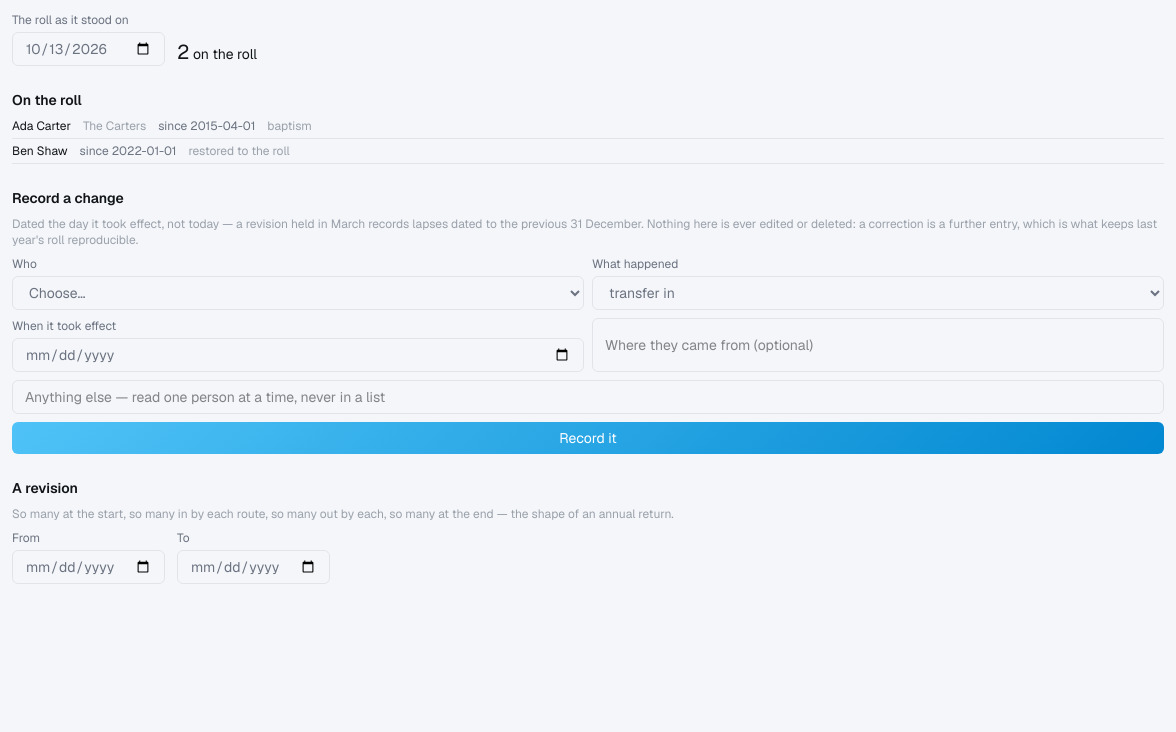
Test: recording a change › asks where they went for a leaving, and where they came from for a joining
The width and height of the screenshot is (1176, 732).
Expected: the field with placeholder "Where they came from (optional)" is shown, x1=592 y1=318 x2=1164 y2=372
Select "transfer out" in the dropdown labelled "What happened". click: (878, 293)
box: x1=592 y1=276 x2=1164 y2=310
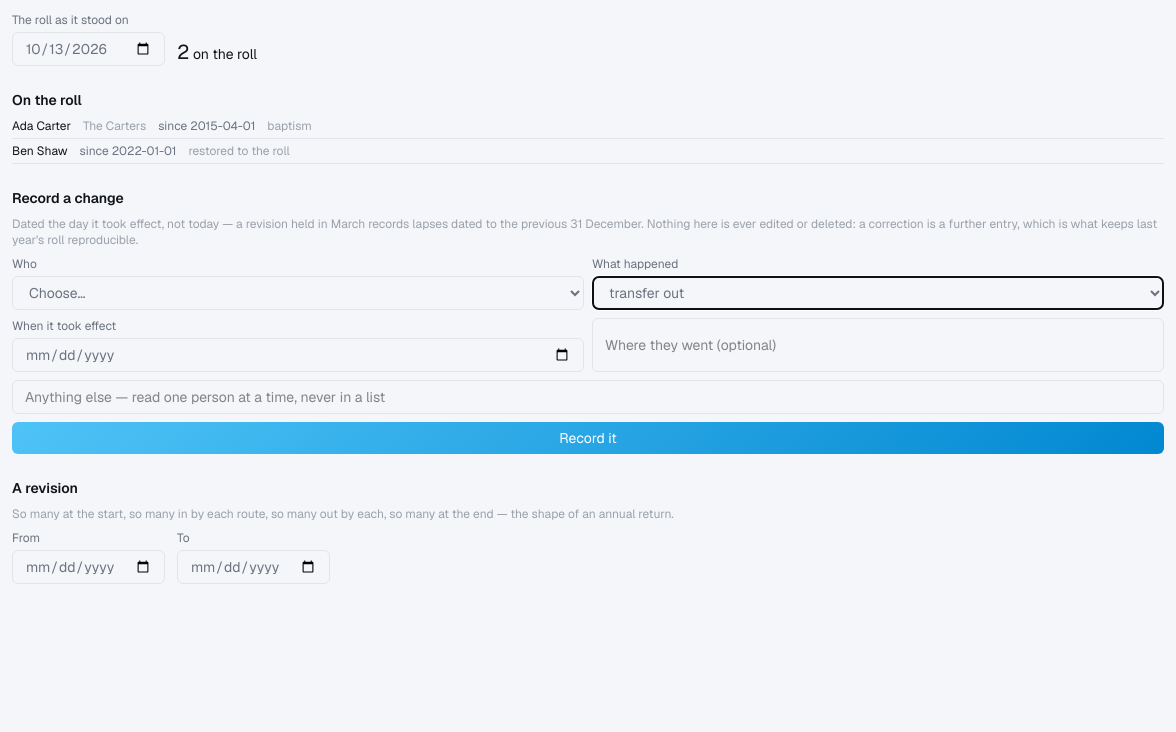
Result: the field with placeholder "Where they went (optional)" is shown at x1=592 y1=318 x2=1164 y2=372
